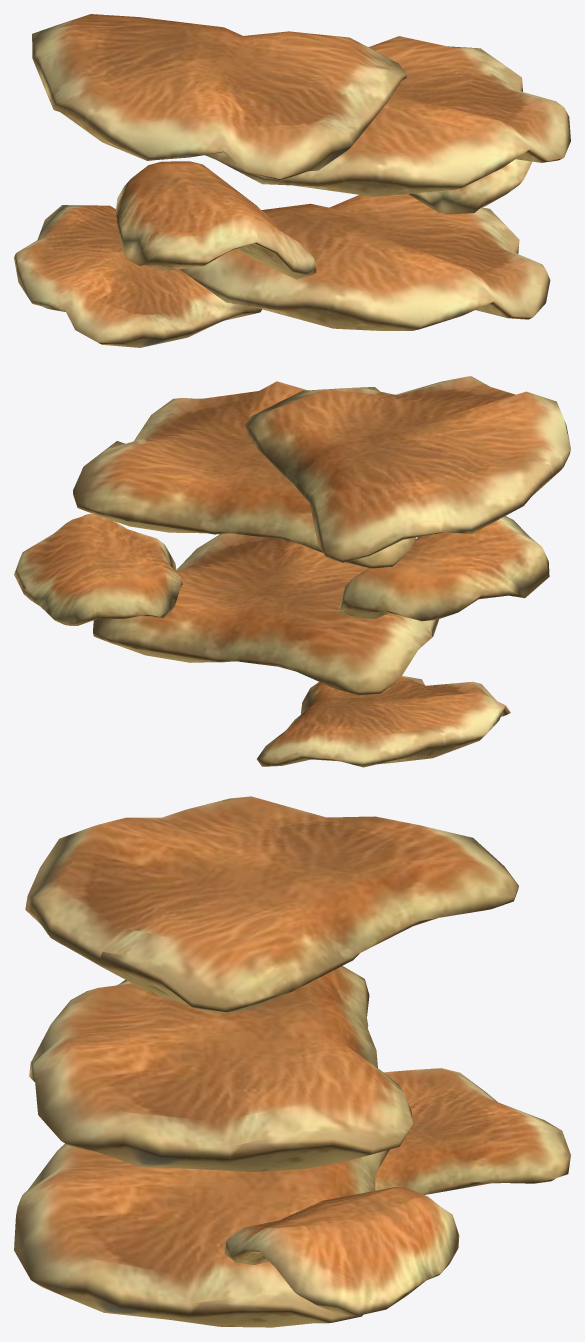
Rendered from nature-mushroom-laetiporus.glb.
3 views of the same model, one above another, from view 1: azimuth 30°, elevation 25°; view 2: azimuth 150°, elevation 25°; view 3: azimuth 270°, elevation 25° (orthographic). The views are drawn at different scales.
Parts seen in each view (by area): view 1: Mushroom_Laetiporus; view 2: Mushroom_Laetiporus; view 3: Mushroom_Laetiporus.
Boxes of the visible parts, <box> form: Mushroom_Laetiporus: <box>14,14,570,347</box>; Mushroom_Laetiporus: <box>14,376,570,767</box>; Mushroom_Laetiporus: <box>14,796,570,1327</box>.
Size of the model in its own units: 1.37 by 0.767 by 1.1.
Materials: 1 (1 with a texture image).
